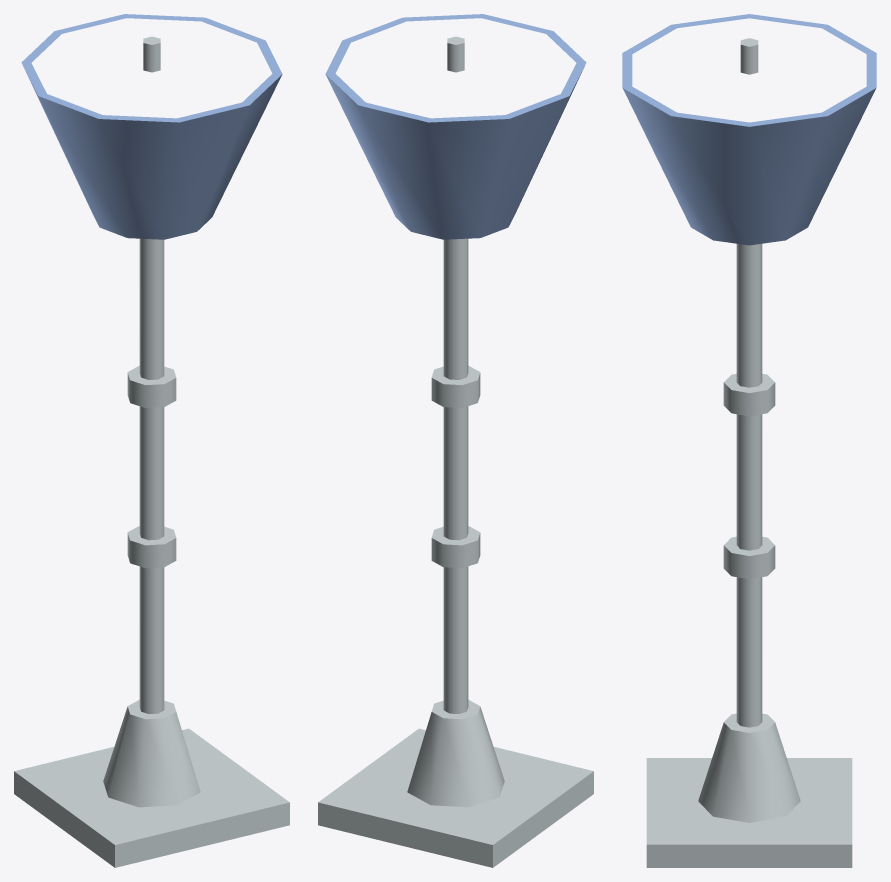
The model's file is floorLampBrass.glb.
3 views of the same model, side by side, from view 1: azimuth 30°, elevation 25°; view 2: azimuth 150°, elevation 25°; view 3: azimuth 270°, elevation 25° (orthographic).
Parts seen in each view (by area): view 1: floorLampBrass; view 2: floorLampBrass; view 3: floorLampBrass.
Part boxes in pixels (left/top/right/bottom): floorLampBrass: left=14, top=14, right=289, bottom=867; floorLampBrass: left=318, top=14, right=593, bottom=867; floorLampBrass: left=622, top=14, right=876, bottom=867.
Bounding box in the file's own units: 0.26 × 0.84 × 0.2473.
